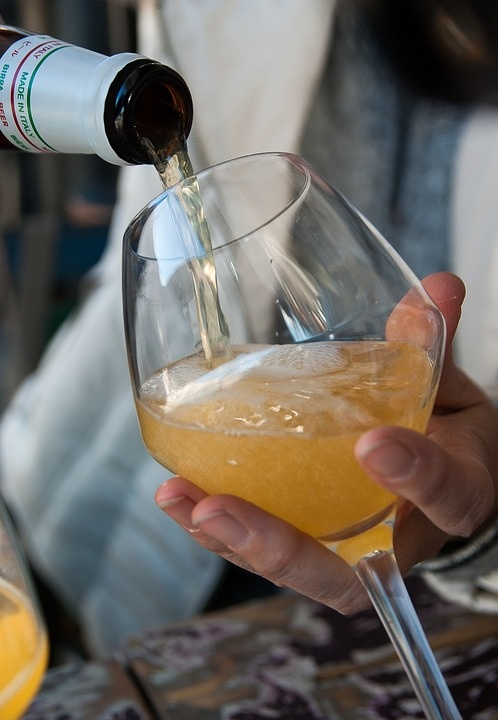glassBeer: (127, 150, 445, 613)
